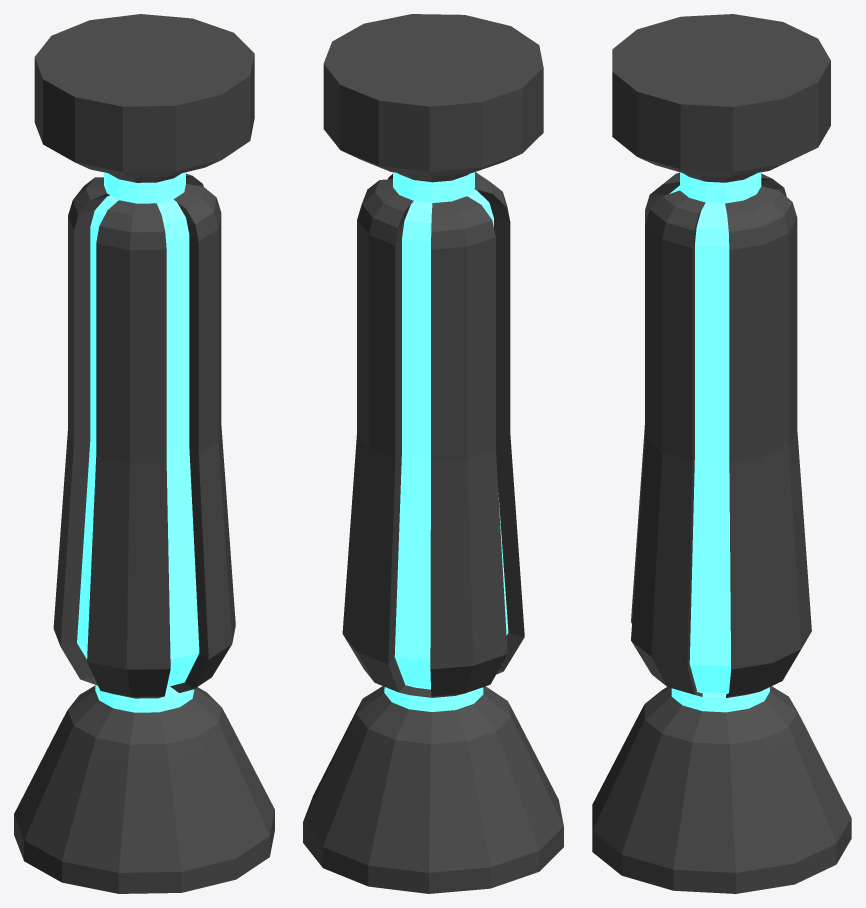
Rendered from ScifiColumn_1.fbx.
3 renders of one model, left to right at view 1: azimuth 30°, elevation 25°; view 2: azimuth 150°, elevation 25°; view 3: azimuth 270°, elevation 25°, orthographic.
Parts seen in each view (by area): view 1: SciFiPillar; view 2: SciFiPillar; view 3: SciFiPillar.
Part boxes in pixels (left/top/right/bottom): SciFiPillar: left=14, top=14, right=274, bottom=893; SciFiPillar: left=303, top=14, right=563, bottom=893; SciFiPillar: left=592, top=14, right=851, bottom=893.
Bounding box in the file's own units: 205 × 674 × 203.
